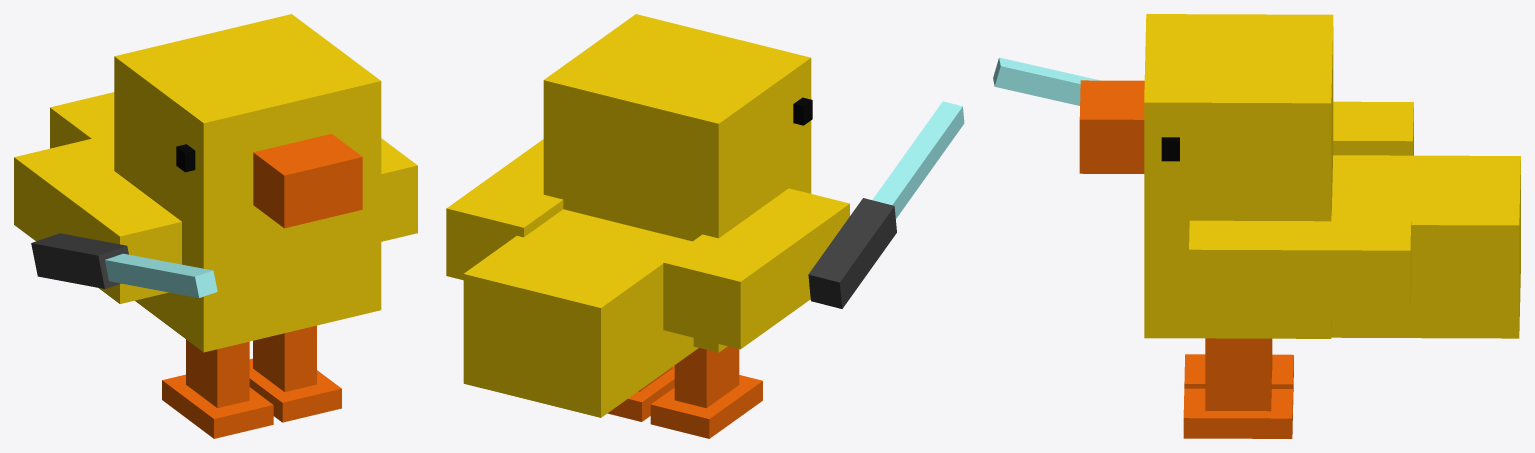
The model's file is Duck.glb.
3 renders of one model, left to right at view 1: azimuth 30°, elevation 25°; view 2: azimuth 150°, elevation 25°; view 3: azimuth 270°, elevation 25°, orthographic. The views are drawn at different scales.
Parts seen in each view (by area): view 1: Cube; view 2: Cube; view 3: Cube.
Part boxes in pixels (box(x1,y1,x2,y2)): Cube: box(14, 14, 417, 438); Cube: box(446, 14, 964, 438); Cube: box(993, 14, 1520, 438).
Bounding box in the file's own units: 1.75 × 1.67 × 2.31.
Materials: 1 (1 with a texture image).
